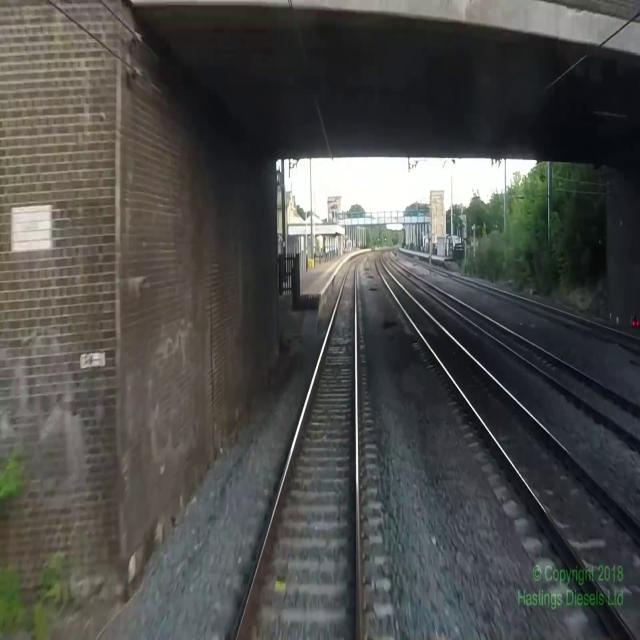rail-track: (376, 255, 640, 635), (236, 258, 361, 639), (386, 253, 640, 438), (439, 271, 640, 348)
